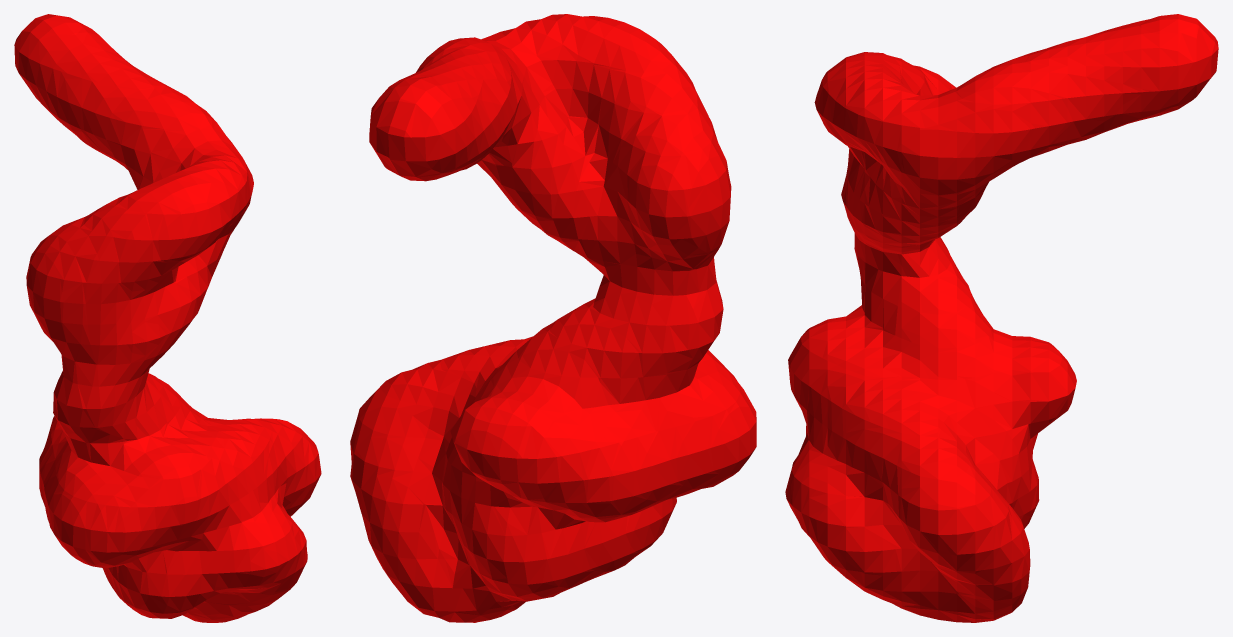
The model's file is atpH_coarse.dae.
3 views of the same model, side by side, from view 1: azimuth 30°, elevation 25°; view 2: azimuth 150°, elevation 25°; view 3: azimuth 270°, elevation 25° (orthographic). The views are drawn at different scales.
Parts seen in each view (by area): view 1: atpH; view 2: atpH; view 3: atpH.
Boxes of the visible parts, bbox=[...] form: atpH: bbox=[14, 14, 321, 622]; atpH: bbox=[350, 14, 756, 622]; atpH: bbox=[785, 14, 1218, 622].
Size of the model in its own units: 40.2 by 69.69 by 47.47.
